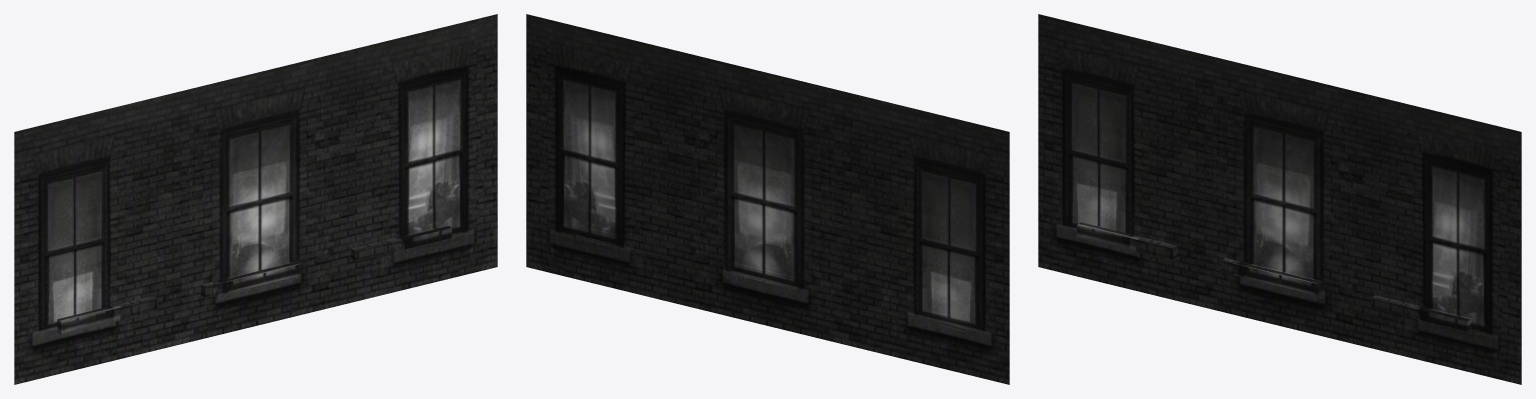
File: floor.obj
The picture shows the model from 3 angles, left to right: view 1: azimuth 30°, elevation 25°; view 2: azimuth 150°, elevation 25°; view 3: azimuth 330°, elevation 25°; orthographic projection.
Parts seen in each view (by area): view 1: group; view 2: group; view 3: group.
Boxes of the visible parts, x1=… form: group: x1=14, y1=14, x2=497, y2=384; group: x1=526, y1=14, x2=1009, y2=384; group: x1=1038, y1=14, x2=1521, y2=384.
Size of the model in its own units: 10 by 5 by 0.157.
